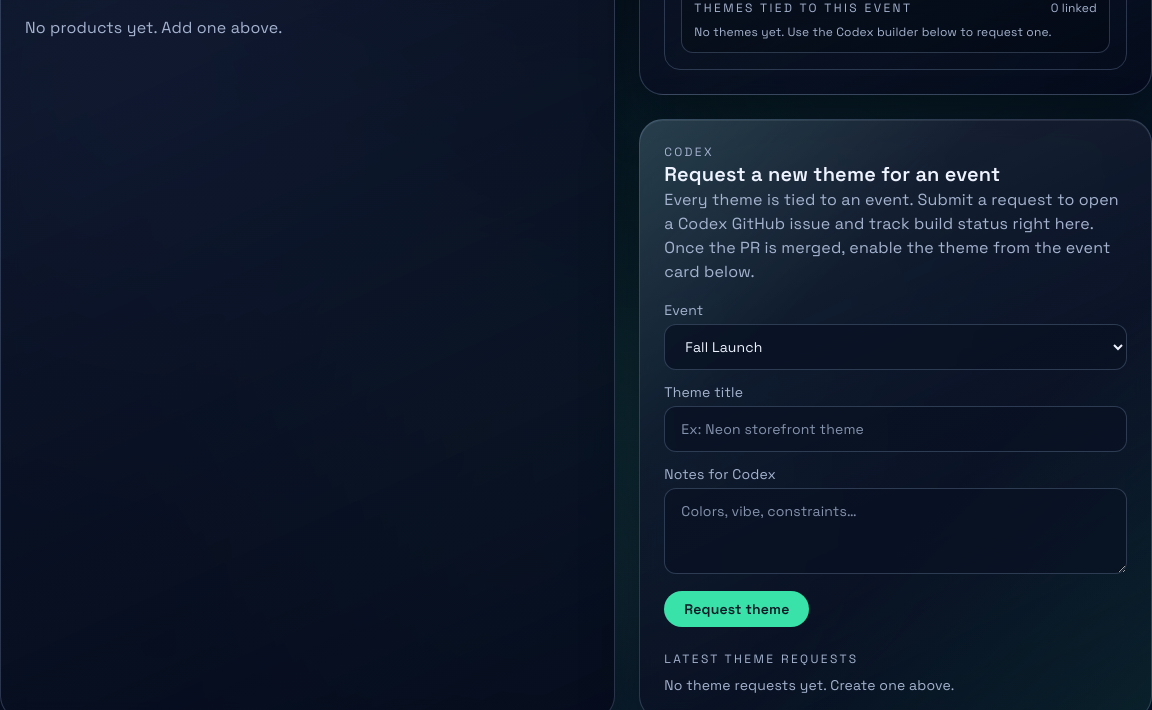
AdminDashboard themes › submits a theme request tied to an event and omits auto-enable
This screenshot has width=1152, height=710.
(page scrolled)
Type "Neon storefront" into the field labelled "Theme title" at (896, 429), box left=664, top=406, right=1127, bottom=452
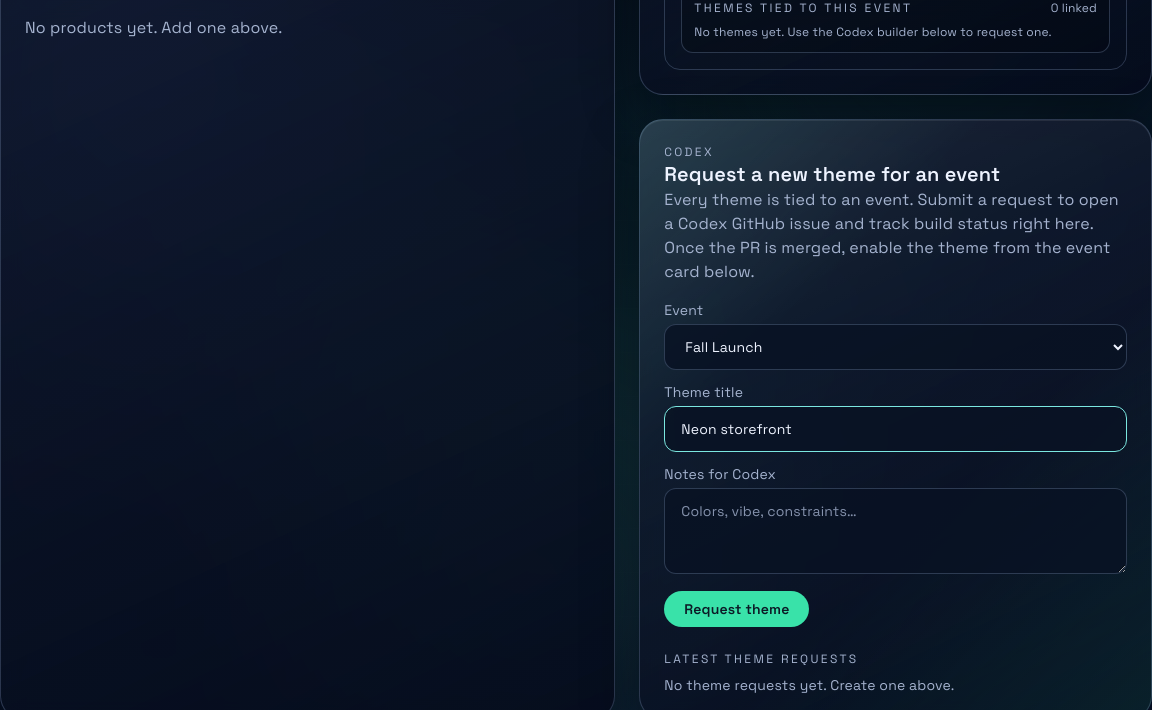
Type "Bright green accents" into the text box labelled "Notes for Codex" at (896, 531), box left=664, top=488, right=1127, bottom=574
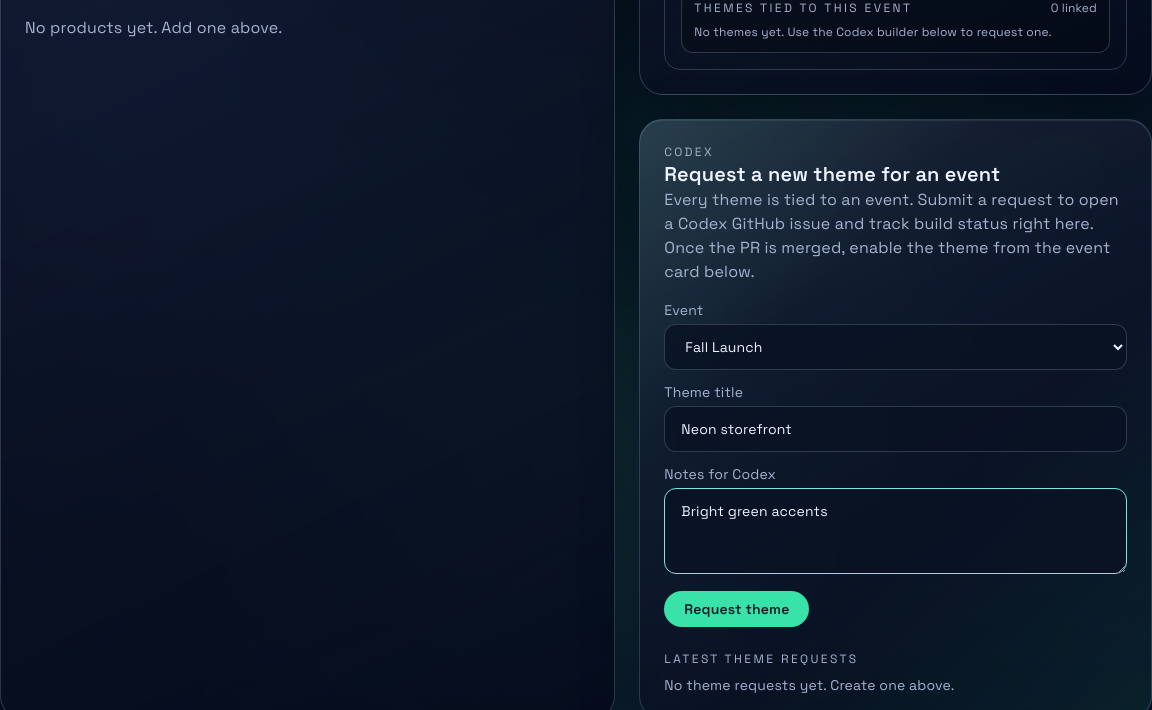
Click the button "Request theme" at (737, 609), box left=664, top=591, right=810, bottom=627
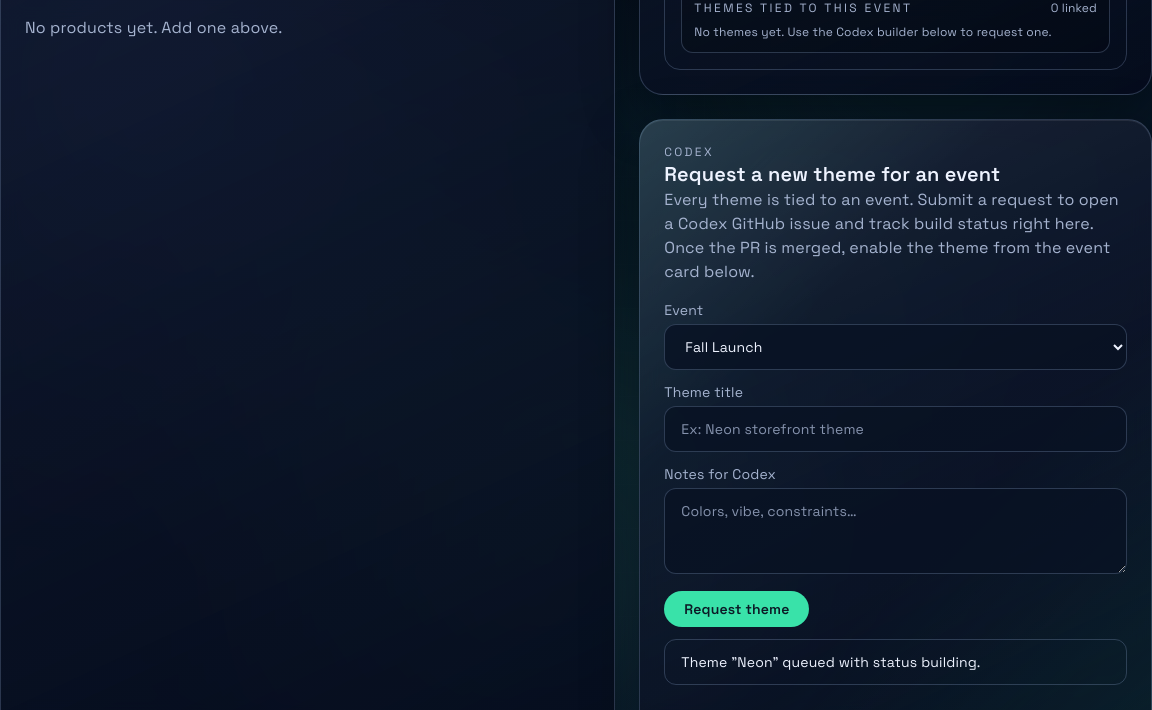
Now the text "Theme \"Neon\" queued with status building." is shown, box left=664, top=639, right=1127, bottom=685
